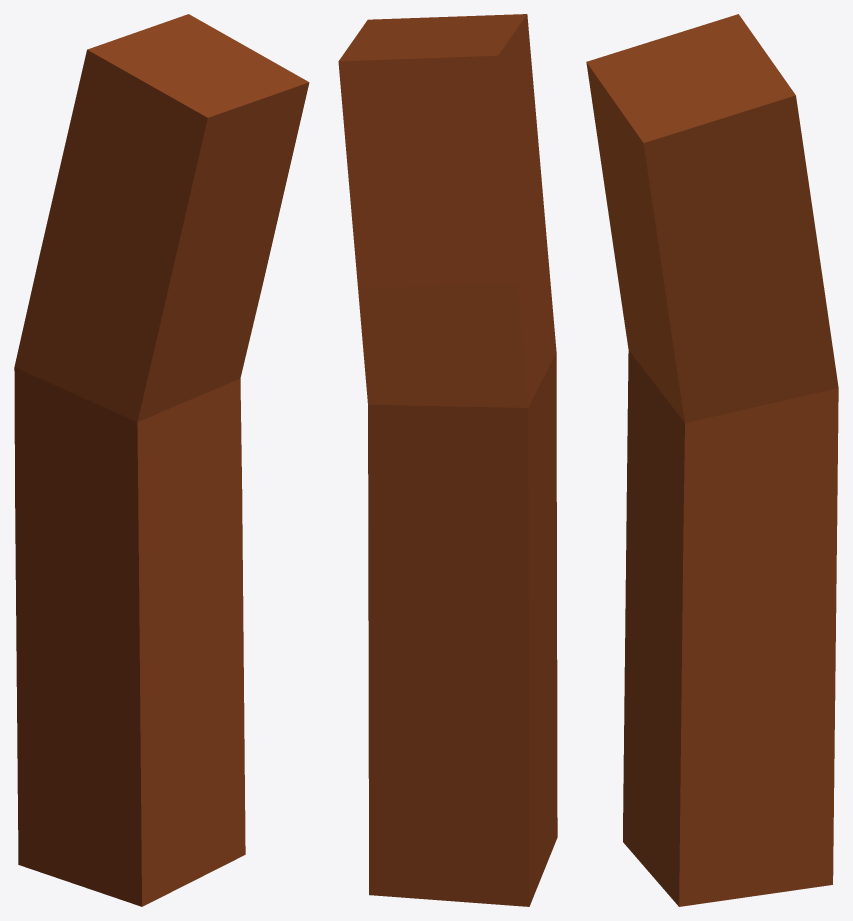
The model's file is HalfLog1.fbx.
3 views of the same model, side by side, from view 1: azimuth 30°, elevation 25°; view 2: azimuth 150°, elevation 25°; view 3: azimuth 270°, elevation 25° (orthographic).
Visible parts, largest first — view 1: Cube.001; view 2: Cube.001; view 3: Cube.001.
Boxes of the visible parts, <box> form: Cube.001: <box>14,14,309,906</box>; Cube.001: <box>338,14,557,906</box>; Cube.001: <box>586,14,838,906</box>.
Size of the model in its own units: 81.27 by 280 by 76.96.
